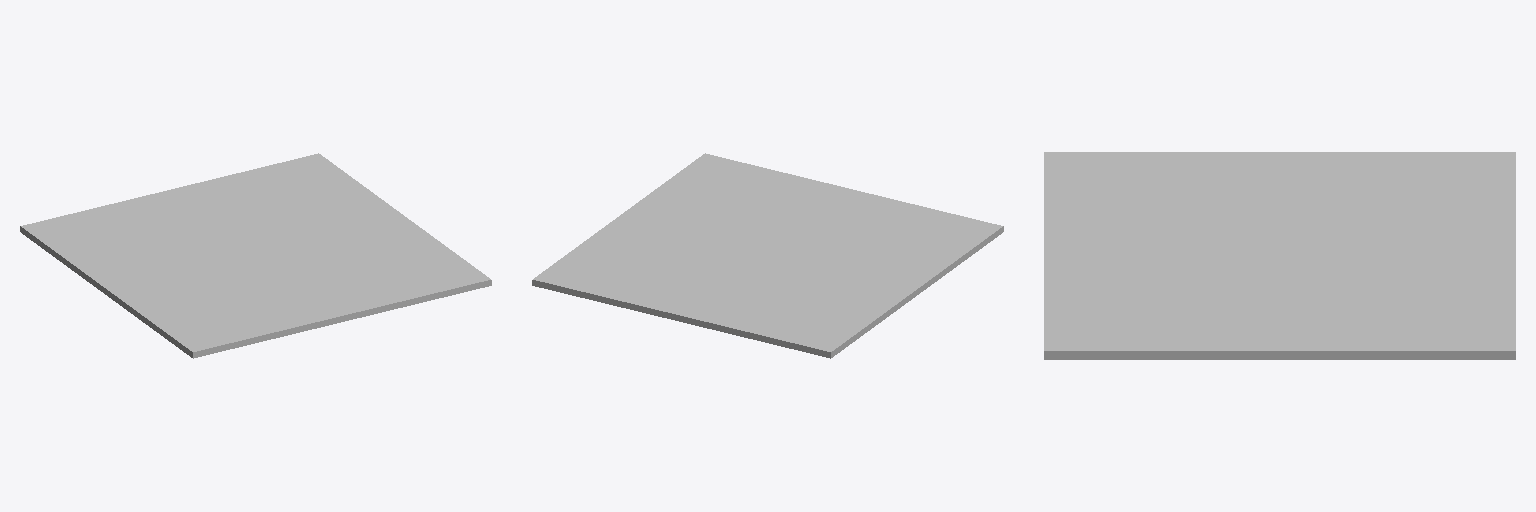
URDF robot description (plane):
<?xml version="1.0" ?>
<!-- =================================================================================== -->
<!-- |    This document was autogenerated by xacro from plane_with_restitution.urdf.xacro | -->
<!-- |    EDITING THIS FILE BY HAND IS NOT RECOMMENDED                                 | -->
<!-- =================================================================================== -->
<robot name="plane">
  <link name="planeLink">
    <contact>
      <lateral_friction value="1000.0"/>
      <restitution value="0.0"/>
    </contact>
    <inertial>
      <origin rpy="0 0 0" xyz="0 0 0"/>
      <mass value=".0"/>
      <inertia ixx="0" ixy="0" ixz="0" iyy="0" iyz="0" izz="0"/>
    </inertial>
    <visual>
      <origin rpy="0 0 0" xyz="0.0 0.0 -0.5"/>
      <geometry>
        <mesh filename="meshes/plane.obj" scale="1 1 1"/>
      </geometry>
      <material name="white">
        <color rgba="1 1 1 1"/>
      </material>
    </visual>
    <collision>
      <origin rpy="0 0 0" xyz="0.0 0.0 -5.5"/>
      <geometry>
        <box size="30 30 10"/>
      </geometry>
    </collision>
  </link>
  <joint name="tilting_joint1" type="revolute">
    <parent link="planeLink"/>
    <child link="disk_link_000"/>
    <limit effort="1000" lower="-10" upper="10" velocity="100000"/>
    <axis xyz="0 1 0"/>
    <origin rpy="0 0 0" xyz="0 0 0"/>
  </joint>
  <link name="disk_link_000">
    <contact>
        <lateral_friction value="1000.0"/>
        <restitution value="0.0"/>
    </contact>
    <inertial>
      <origin rpy="0 0 0" xyz="0 0 0"/>
       <mass value="1.0"/>
       <inertia ixx="0" ixy="0" ixz="0" iyy="0" iyz="0" izz="0"/>
    </inertial>
    <collision>
      <origin rpy="0 0 0" xyz="0 0 -5"/>
      <geometry>
        <box size="30.0 30.0 10.0"/>
      </geometry>
      <material name="white">
        <color rgba="1 1 1 1"/>
      </material>
    </collision>
    <visual>
      <origin rpy="0 0 0" xyz="0 0 -0.01"/>
      <geometry>
        <box size="1.0 1.0 0.02"/>
      </geometry>
      <material name="grey">
        <color rgba="0.8 0.8 0.8 1.0"/>
      </material>
    </visual>
  </link>
</robot>

--- What the picture shows (computed from the rendered views, not written in the file) ---
The picture shows the robot from 3 angles, left to right: view 1: azimuth 30°, elevation 25°; view 2: azimuth 150°, elevation 25°; view 3: azimuth 270°, elevation 25°; orthographic projection.
Robot: plane — 2 links, 1 joints (1 revolute); root link planeLink; default pose: every joint at zero.
Visible links, largest first — view 1: disk_link_000; view 2: disk_link_000; view 3: disk_link_000.
Boxes of the visible links, box(x1,y1,x2,y2) form: disk_link_000: box(20, 153, 491, 358); disk_link_000: box(532, 153, 1003, 358); disk_link_000: box(1044, 152, 1515, 359).
Size in the robot's own frame: 1 by 1 by 0.02 metres.
Meshes: 1 distinct files referenced, 0 mesh visuals loaded (none loaded); not drawn: 1 (reference not matched to a file when rendering).
